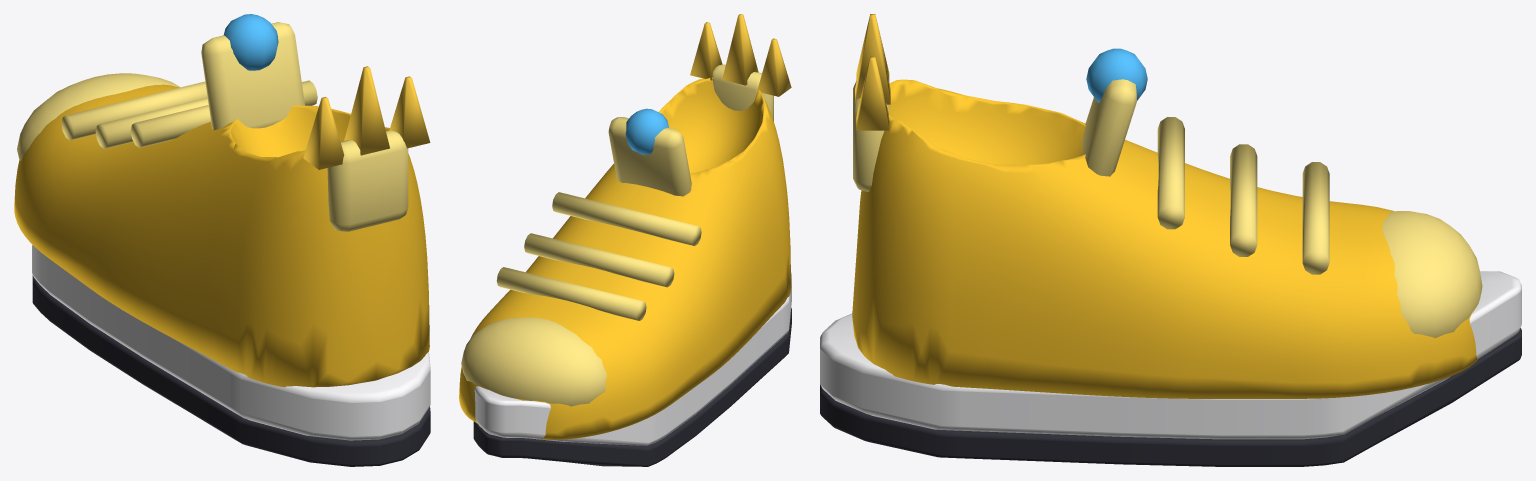
The model's file is shoe_golden.fbx.
The picture shows the model from 3 angles, left to right: view 1: azimuth 30°, elevation 25°; view 2: azimuth 150°, elevation 25°; view 3: azimuth 270°, elevation 25°; orthographic projection. The views are drawn at different scales.
Parts seen in each view (by area): view 1: shoe_golden; view 2: shoe_golden; view 3: shoe_golden.
Part boxes in pixels (x1,y1,x2,y2): shoe_golden: (14,14,430,466); shoe_golden: (459,14,791,466); shoe_golden: (820,14,1521,466).
Size of the model in its own units: 1.56 by 2.42 by 3.88.
Materials: 1 (1 with a texture image).
